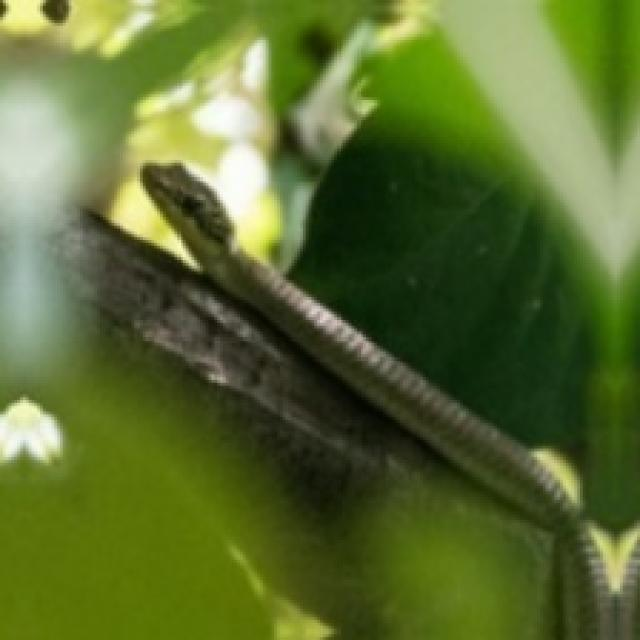paradise tree snake: (144, 164, 640, 640)
